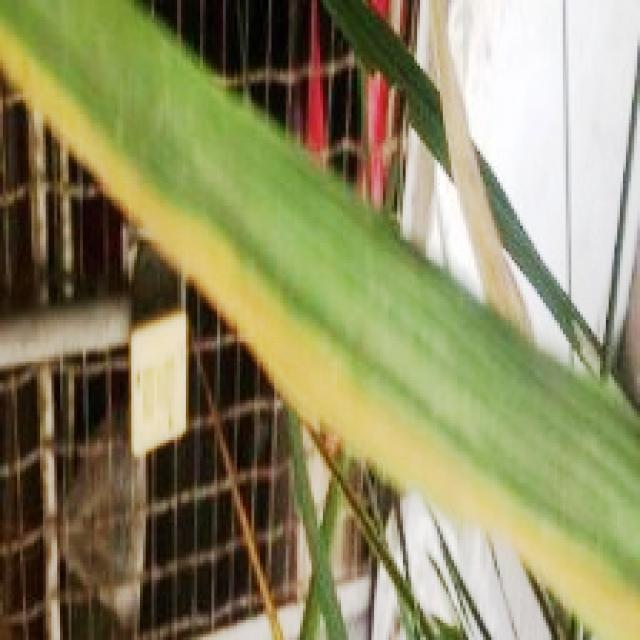unhealth: (2, 21, 629, 640)
